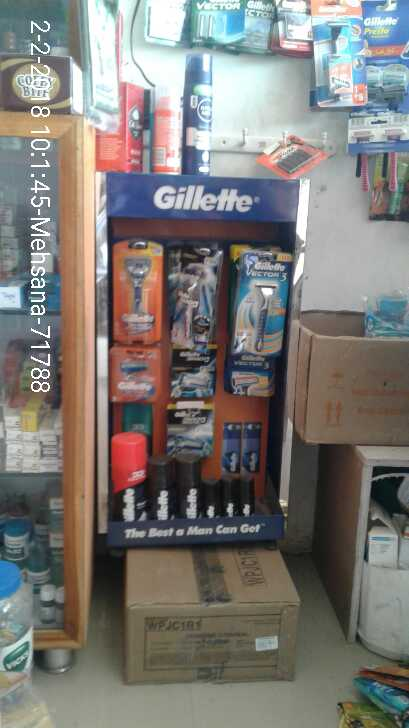gillette: (234, 244, 289, 361), (166, 244, 222, 348), (110, 240, 160, 341), (111, 429, 150, 525), (163, 406, 218, 462), (111, 345, 159, 403), (167, 345, 218, 398), (173, 457, 203, 520), (146, 462, 171, 520), (217, 474, 239, 527), (203, 472, 218, 525), (241, 478, 257, 519)
